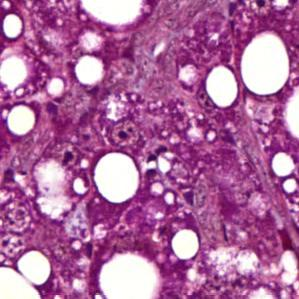steatosis: (240, 33, 290, 98), (93, 148, 141, 204), (204, 63, 241, 108), (72, 54, 110, 85), (170, 227, 206, 259)
